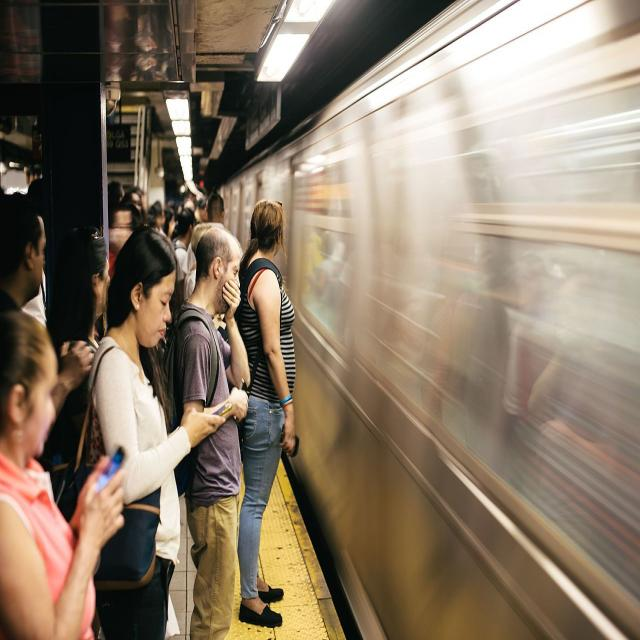body: (85, 226, 227, 640), (0, 306, 126, 640), (171, 227, 251, 639), (0, 205, 97, 523), (238, 197, 300, 629), (32, 225, 112, 524), (106, 177, 207, 271), (187, 190, 245, 272), (182, 223, 220, 302)
